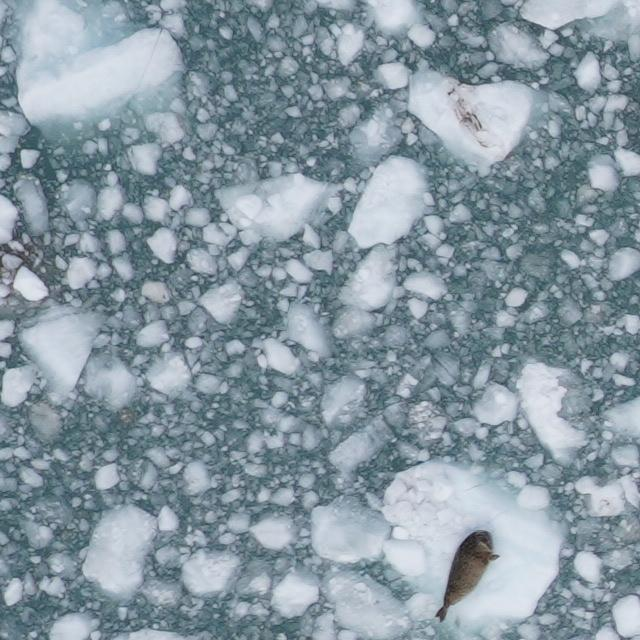seal: (434, 527, 503, 625)
